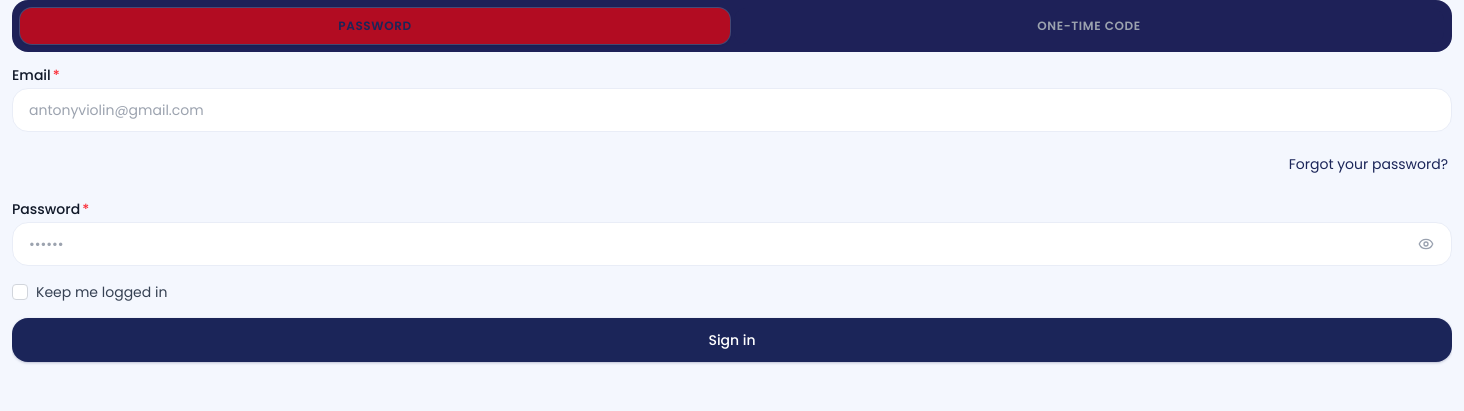
LoginForm OTP tab › shows an error when the backend rejects the code
This screenshot has width=1464, height=411.
Click the tab "One-time code". click: (1089, 26)
box: [734,8,1444,44]
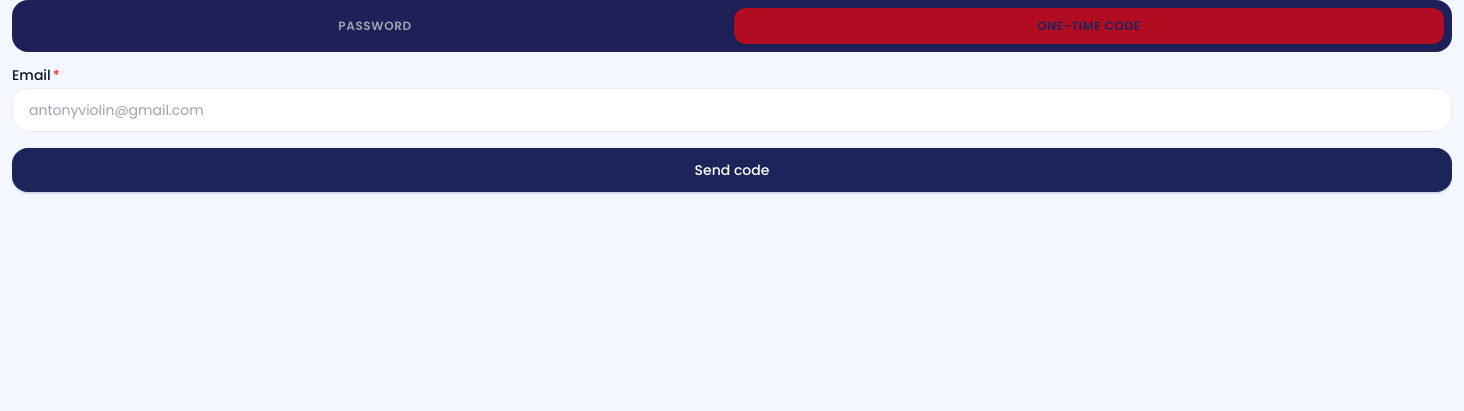
Type "admin@bgycc.com" into the field named "email". click: (732, 110)
box: [12,88,1452,132]
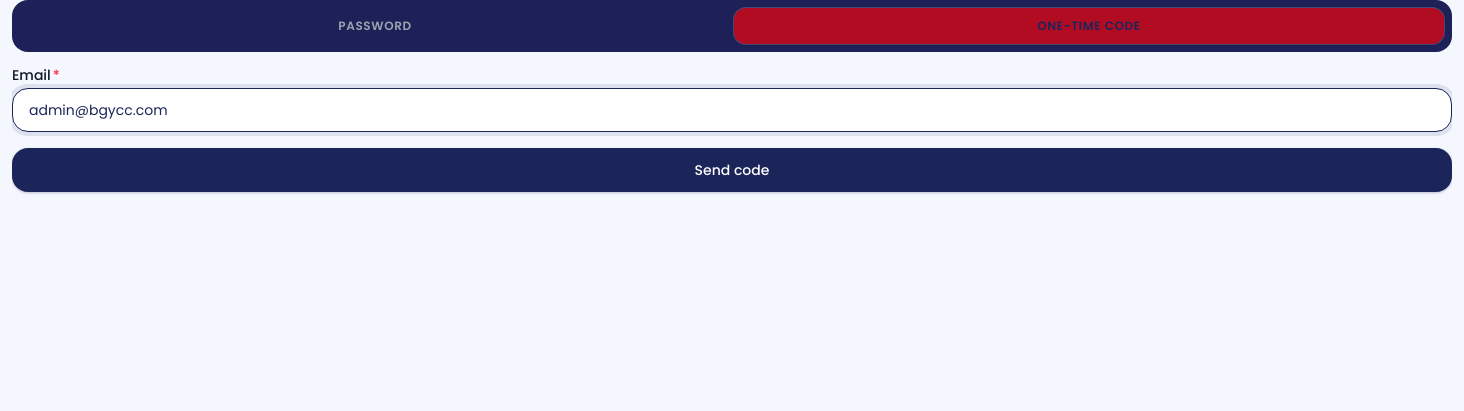
Click the button "Send code". click: (732, 170)
box: [12,148,1452,192]
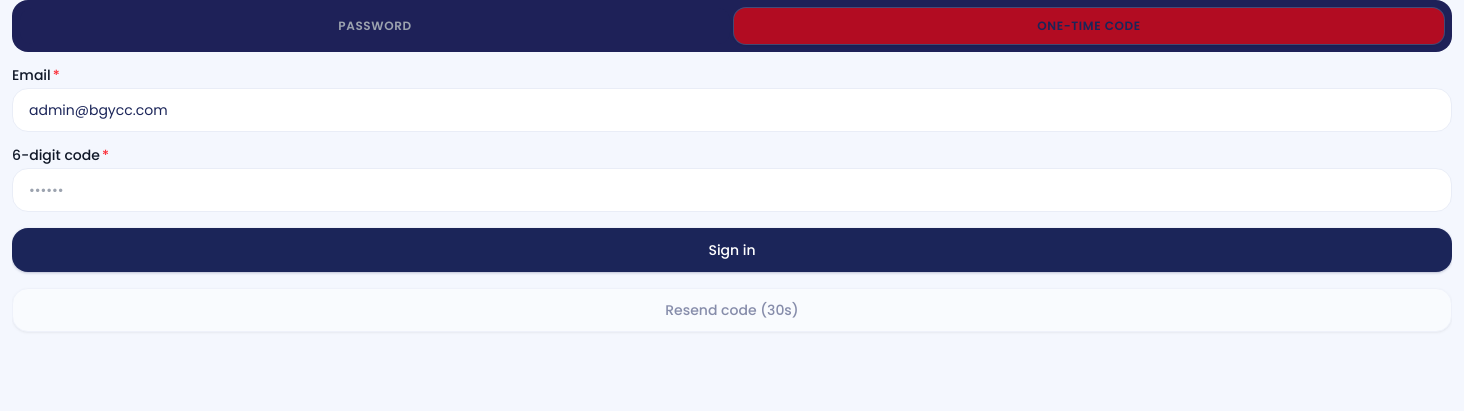
Now the field named "6-digit code" is shown
Type "000000" into the field named "6-digit code". click: (732, 190)
box: [12,168,1452,212]
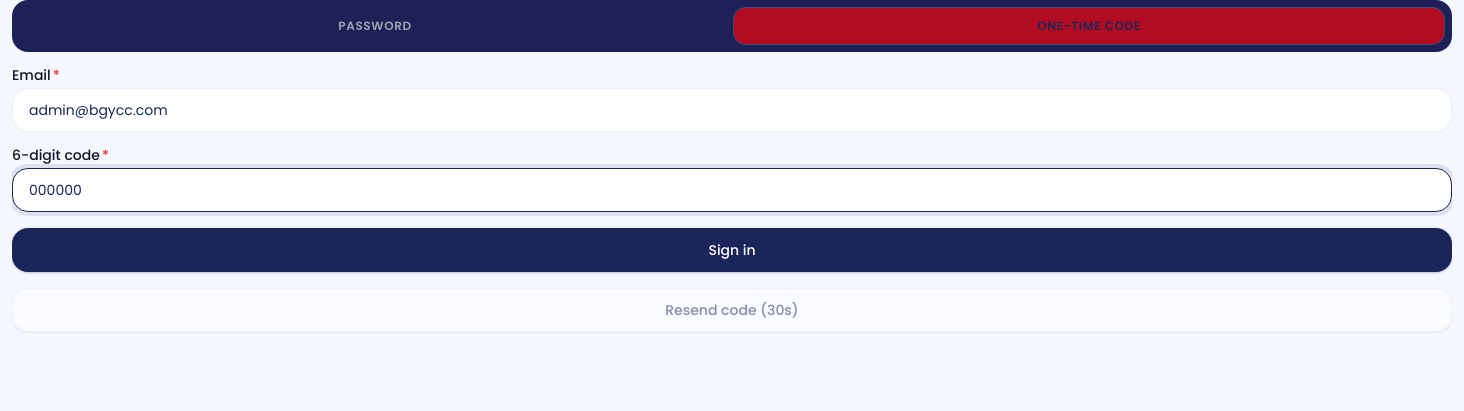
Click the button "Sign in". click: (732, 250)
box: [12,228,1452,272]
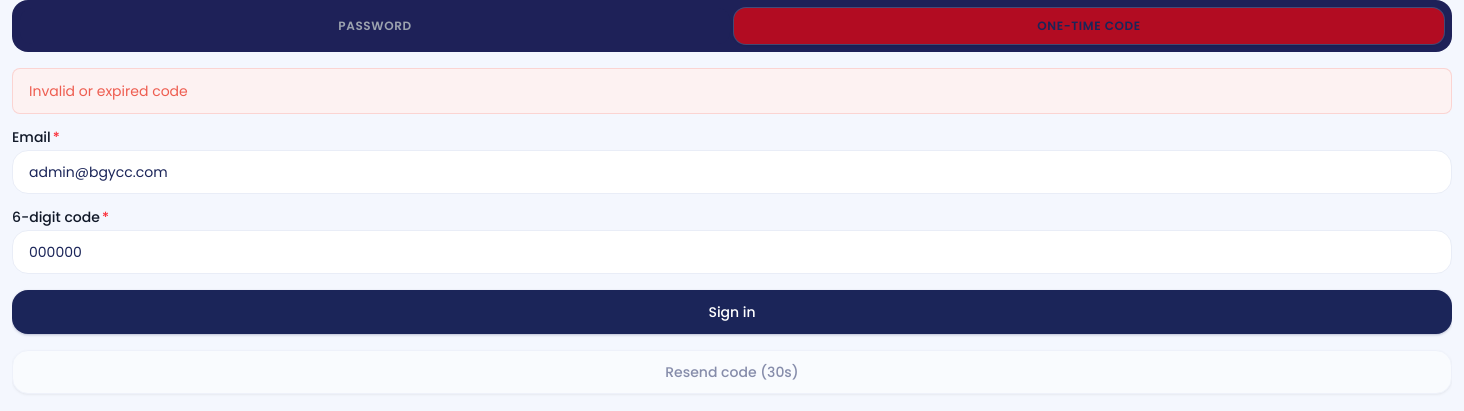
Now the text "Invalid or expired code" is shown, box [29,81,188,101]
